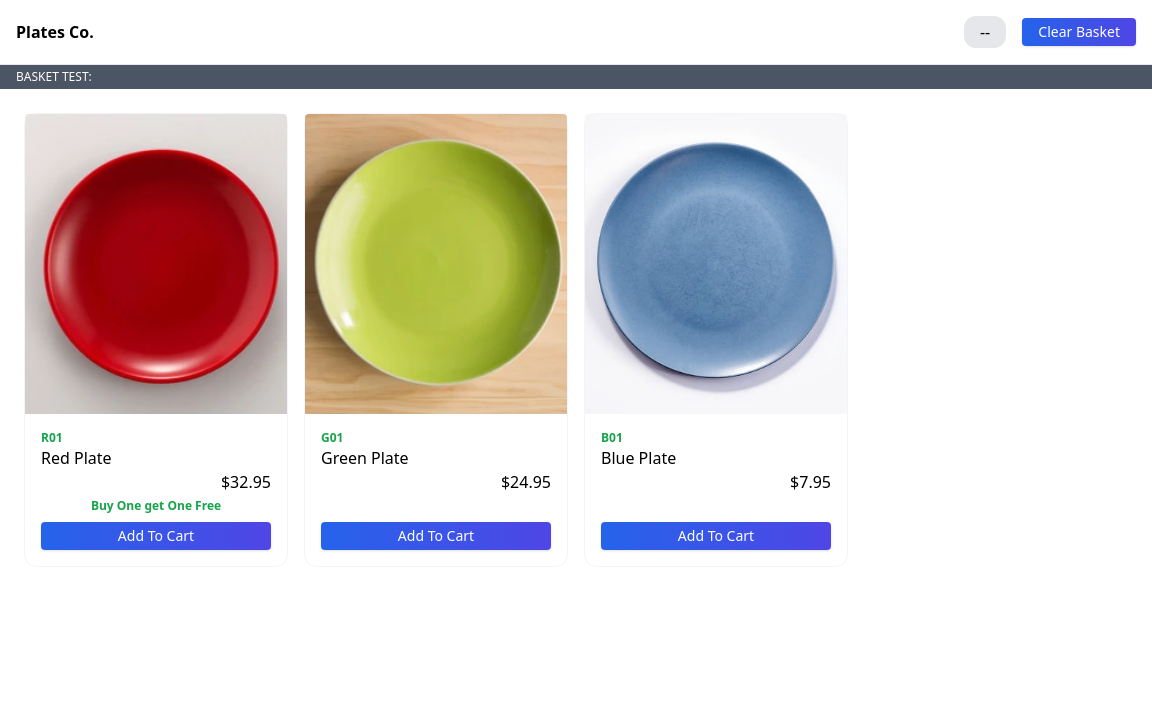
it: Basket: R01, G01 = $60.85
Expected: the button with test id "G01" is shown, [321, 522, 551, 550]
Expected: the text "--" is shown, [964, 16, 1006, 48]
Click the button with test id "R01" at (156, 536), box [41, 522, 271, 550]
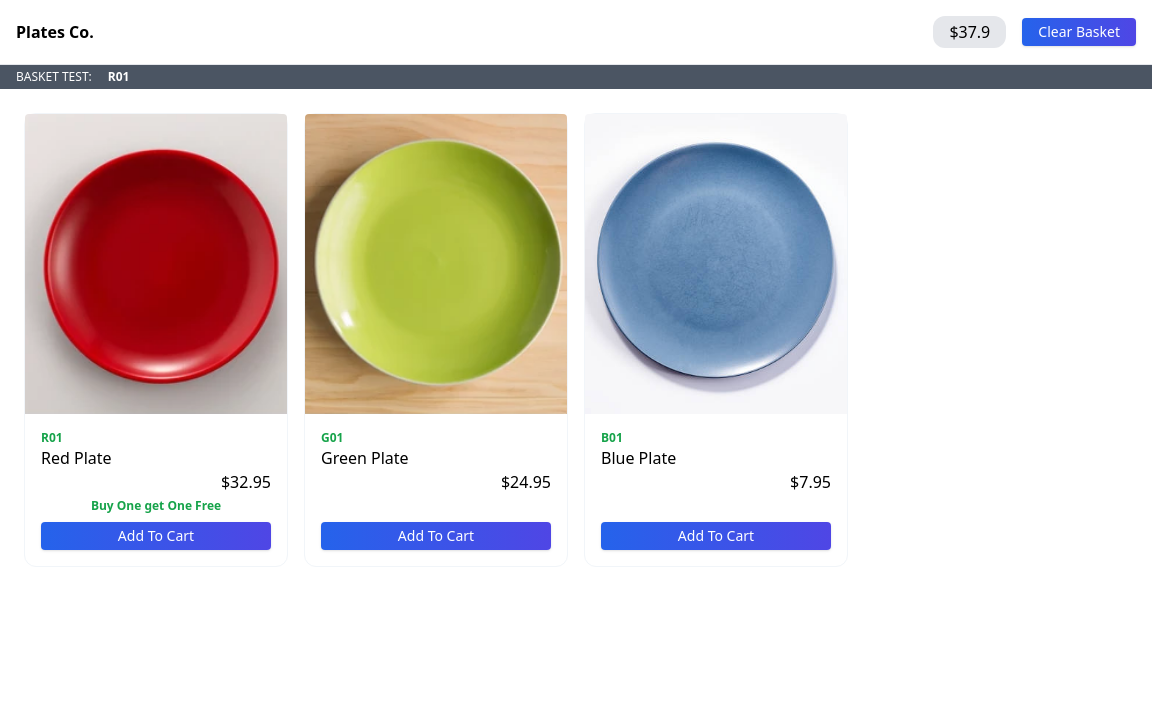
Click the button with test id "G01" at (436, 536), box [321, 522, 551, 550]
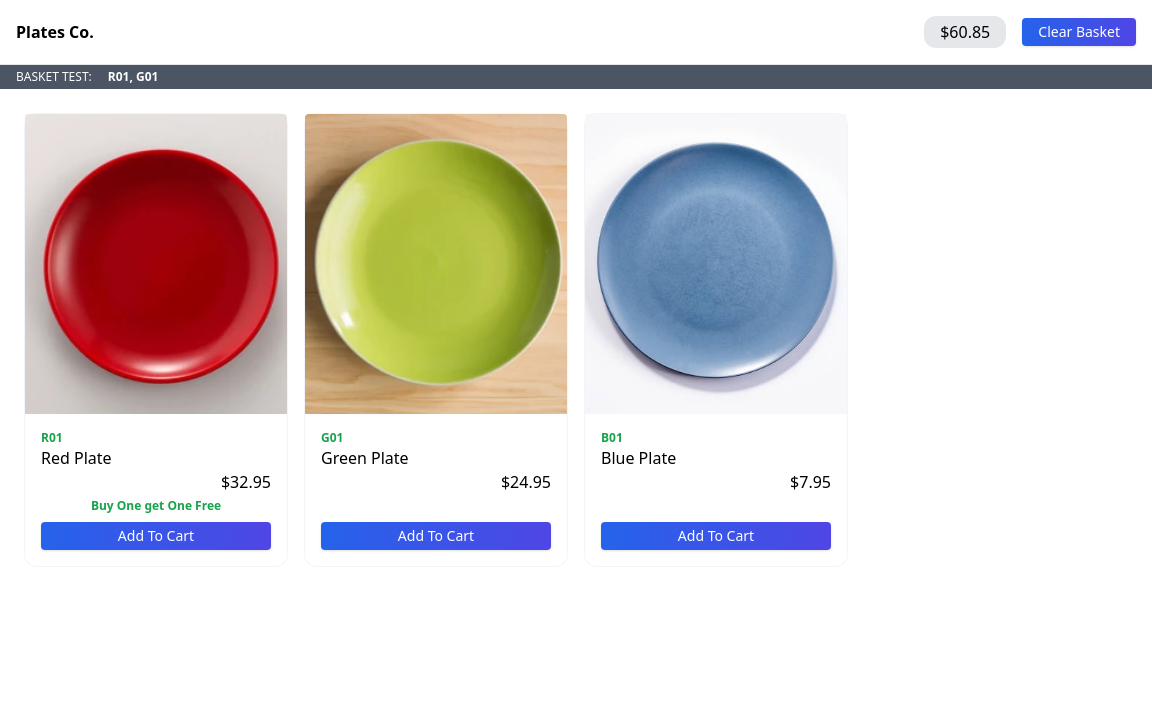
Now the text "$60.85" is shown, box [924, 16, 1006, 48]
